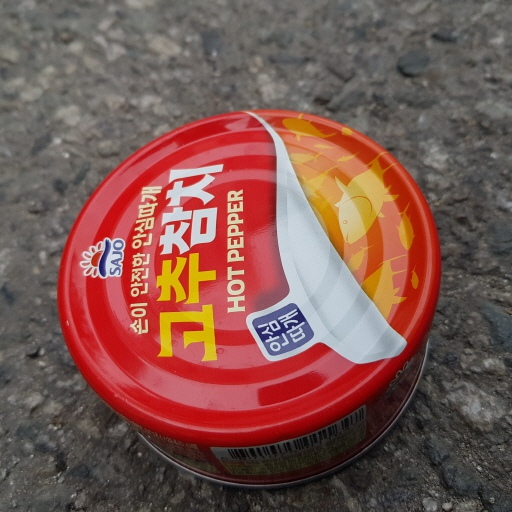Metal_1: (55, 108, 441, 489)
